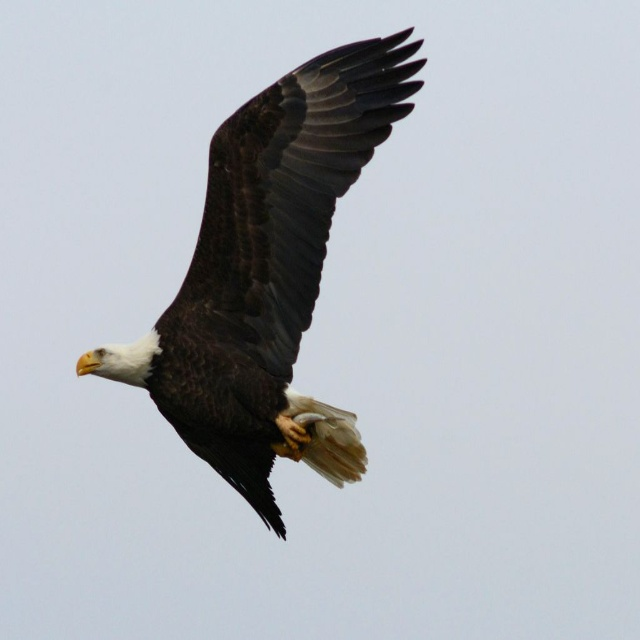Eagle: (77, 24, 427, 541)
